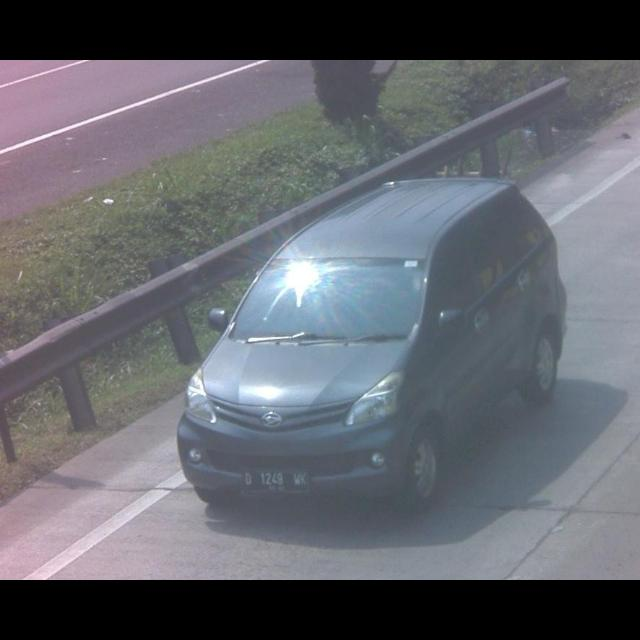plate: (238, 466, 313, 491)
